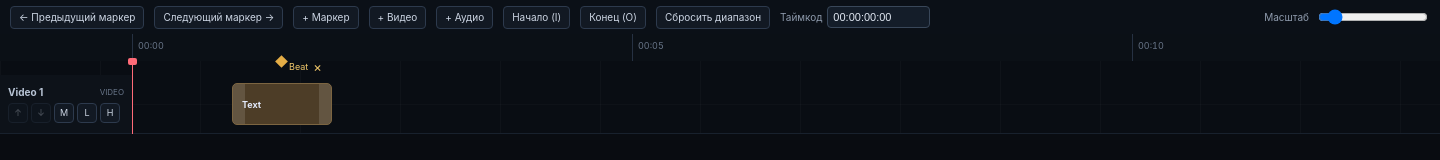
Test case: Timeline › enters exact timecodes without editing Rust and rejects invalid/out-of-range time
Replace the text in the field labelled "Таймкод" with "00:00:05:15" at (879, 17), box [827,6,930,28]
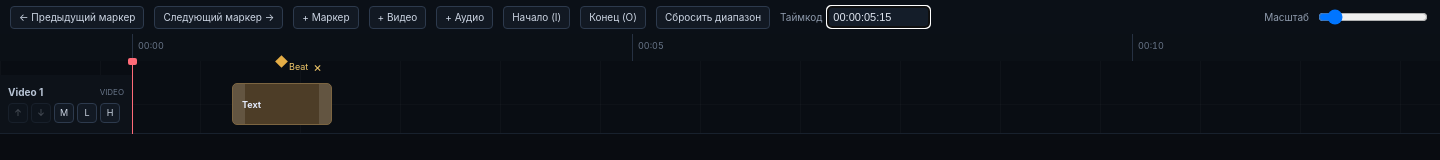
Press Enter in the field labelled "Таймкод", box [827,6,930,28]
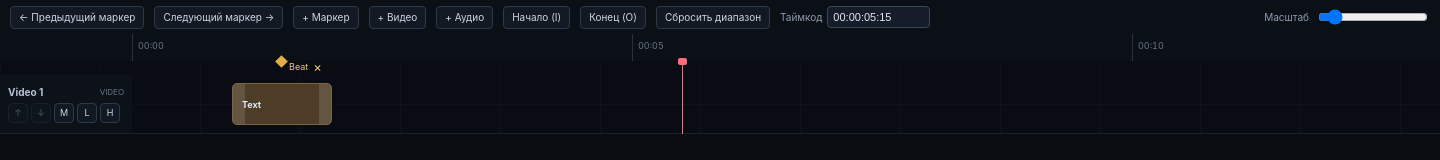
Replace the text in the field labelled "Таймкод" with "12:00:00:00" at (879, 17), box [827,6,930,28]
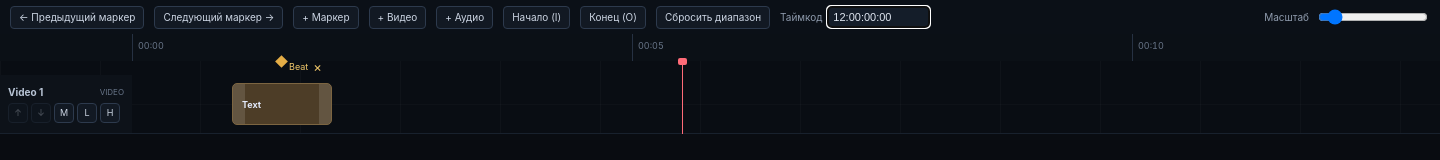
Press Enter in the field labelled "Таймкод", box [827,6,930,28]
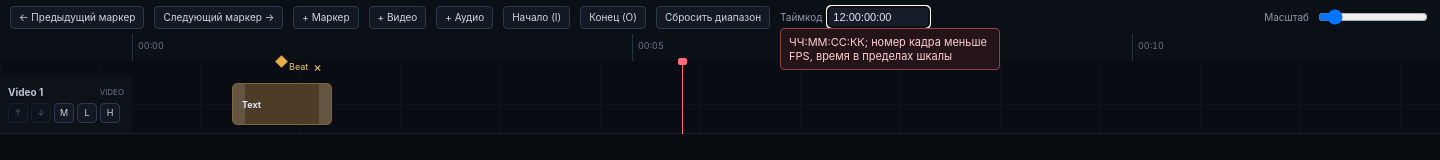
Now the message "ЧЧ:ММ:СС:КК; номер кадра меньше FPS, время в пределах шкалы" is shown, box [780,28,1000,70]
